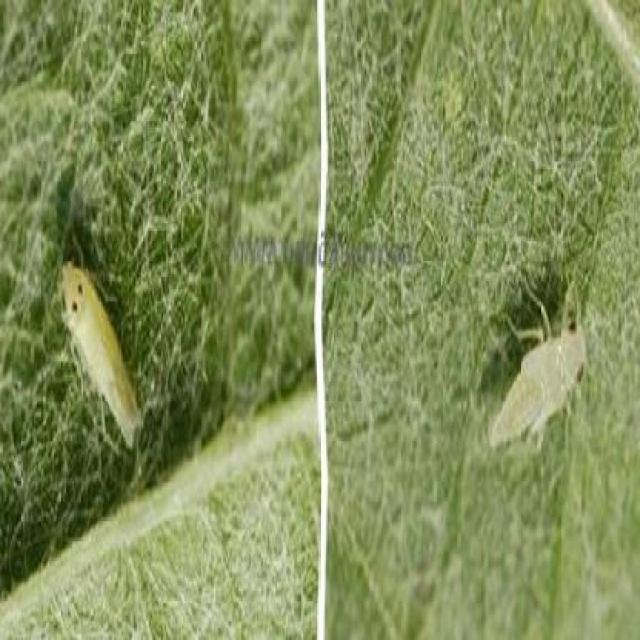green-leafhopper: (488, 279, 588, 461), (54, 247, 141, 451)
